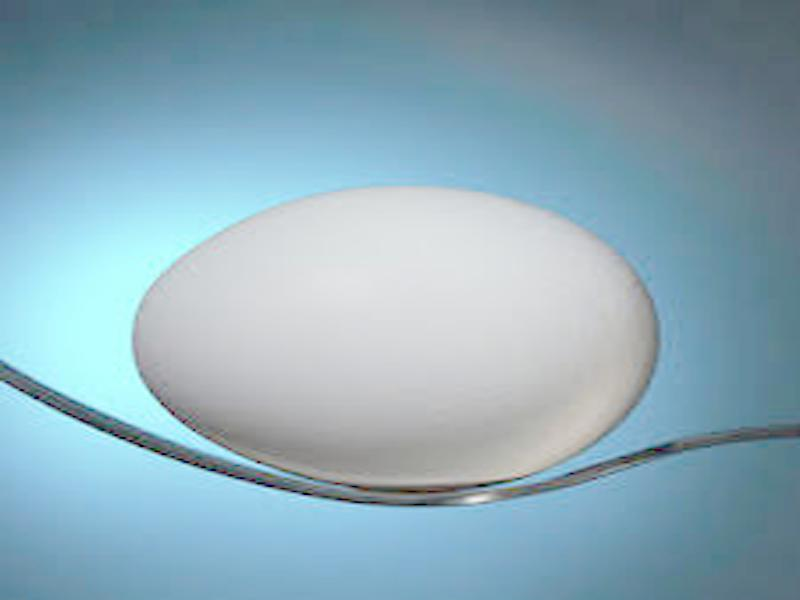Eggs: (132, 189, 658, 488)
